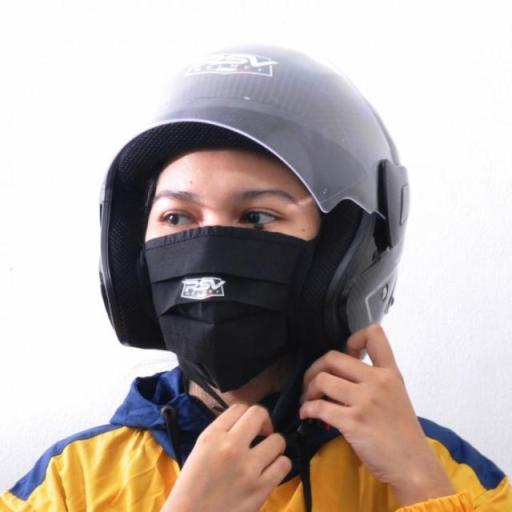Helmet: (100, 46, 408, 358)
